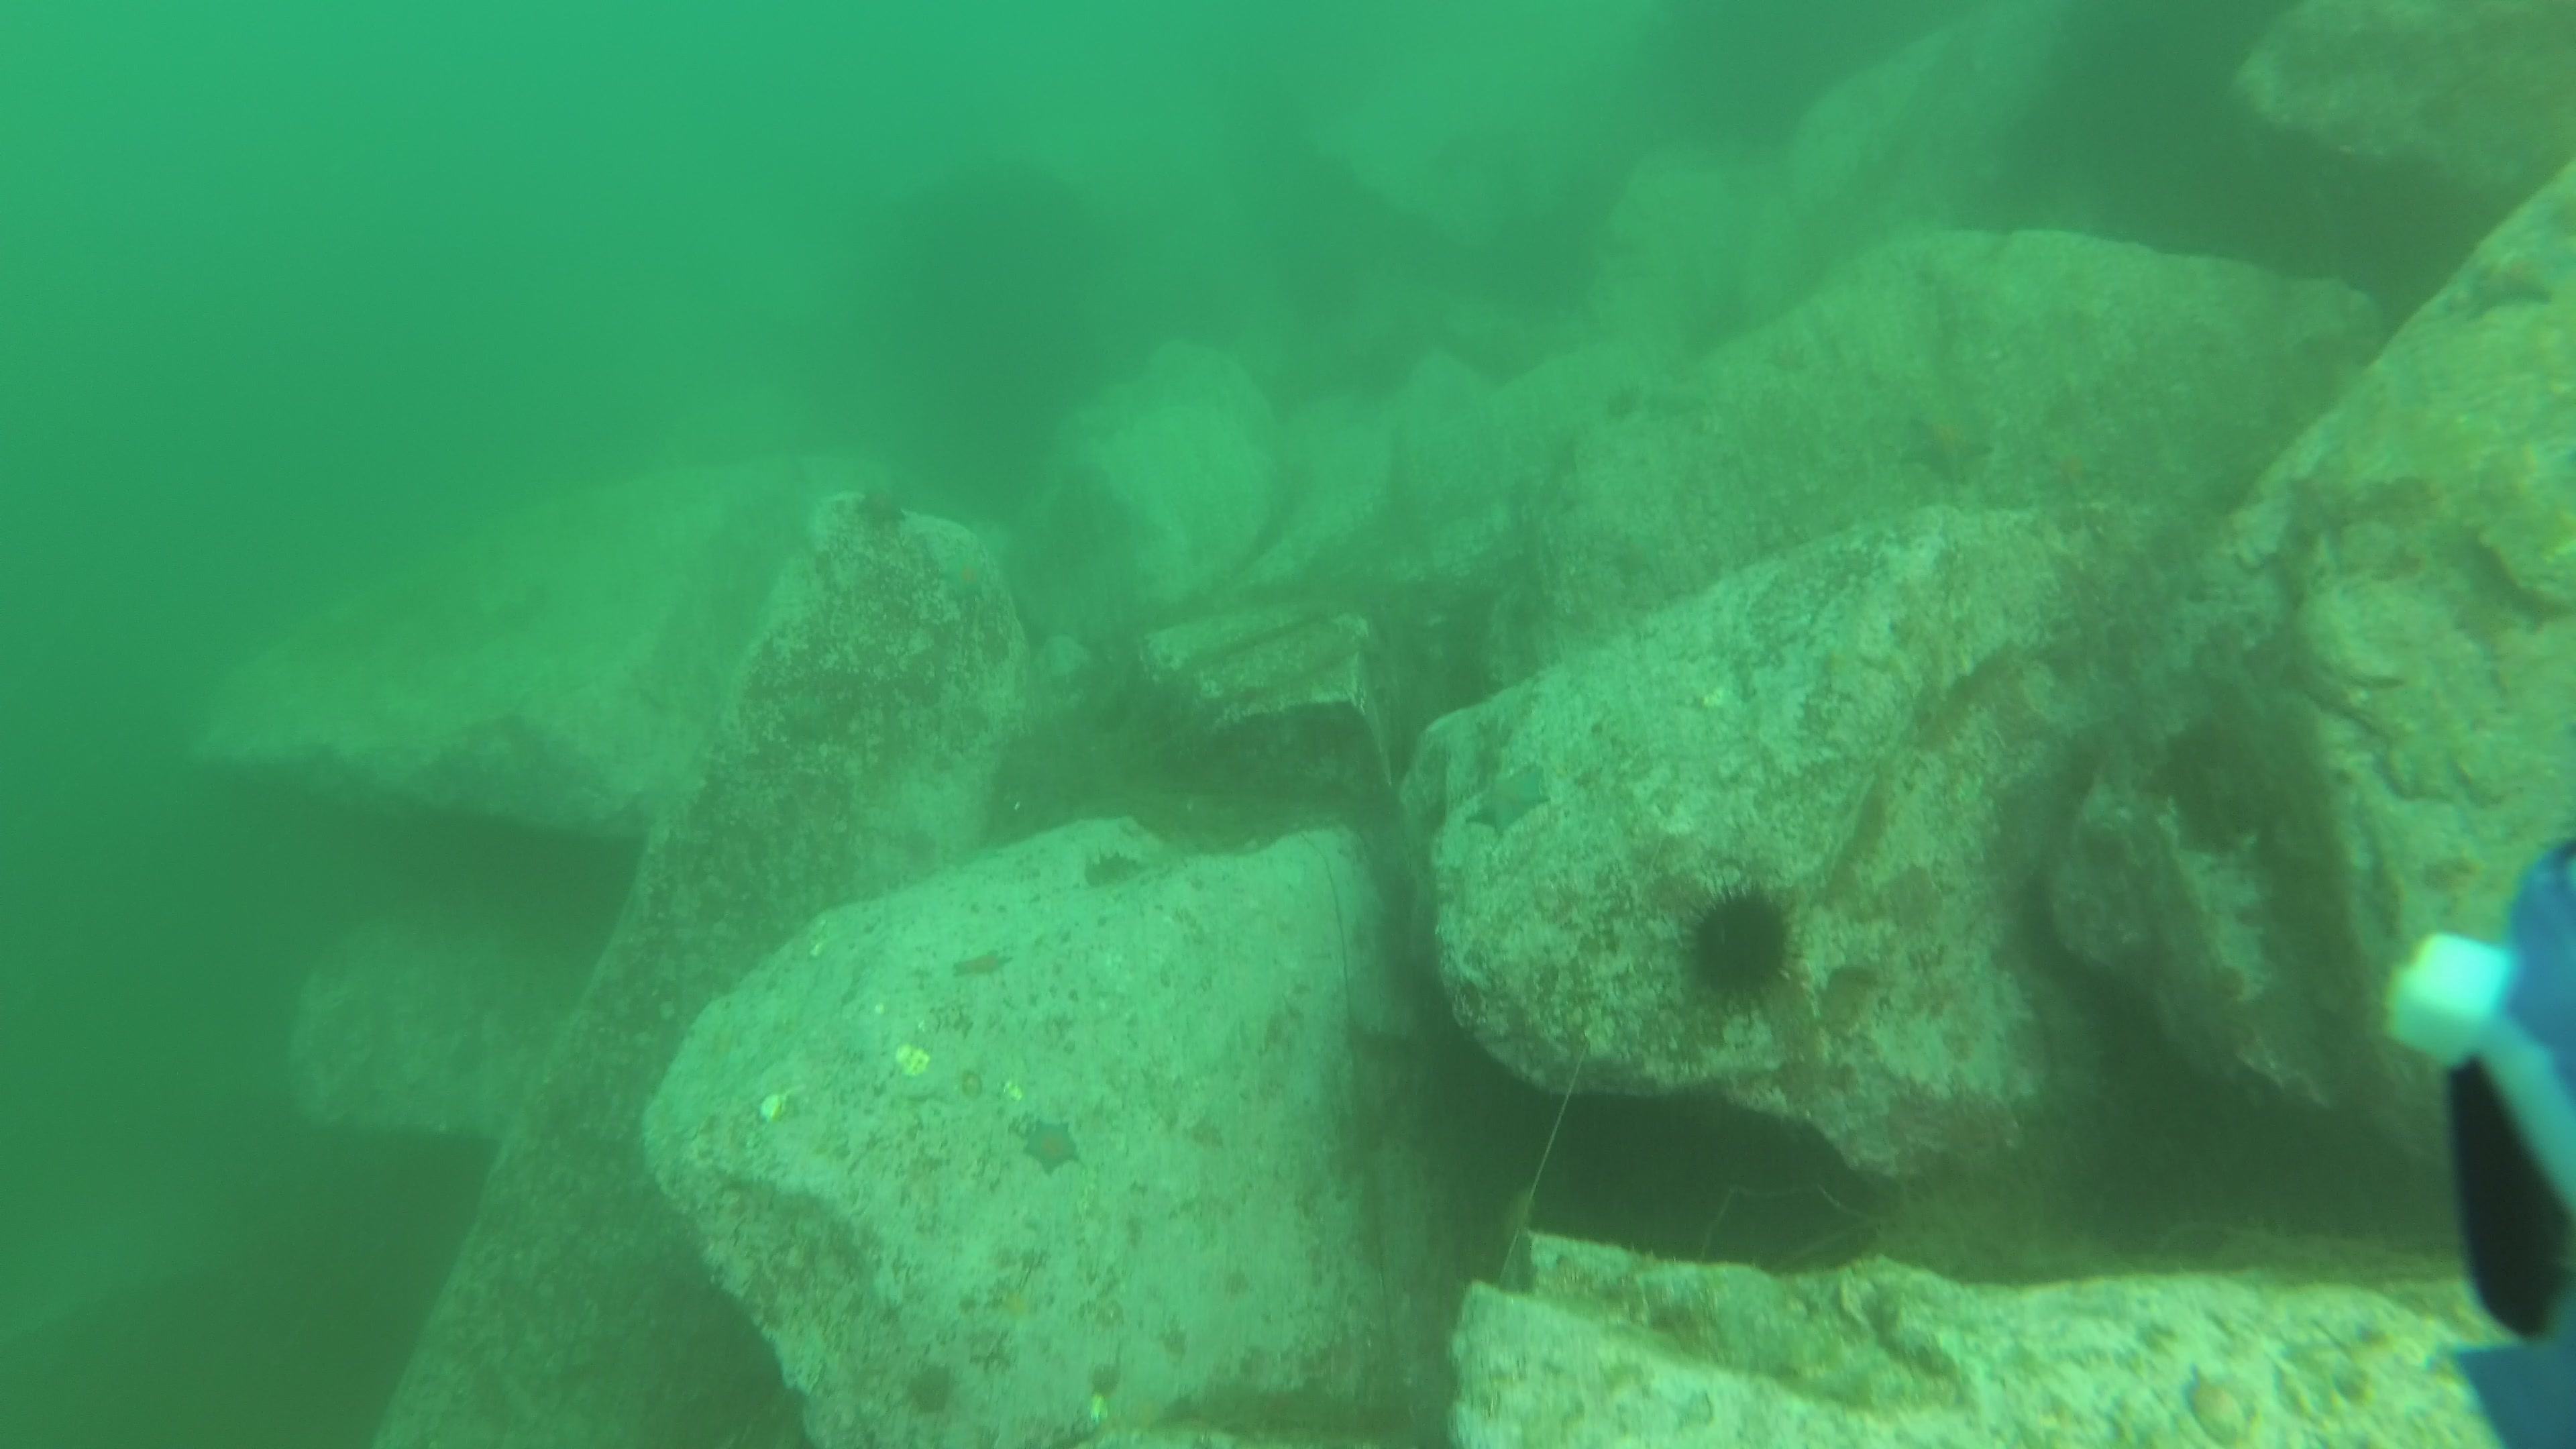echinus: (1670, 872, 1808, 1016), (899, 1352, 966, 1421)
holothurian: (1079, 844, 1152, 893)
starfish: (2463, 237, 2574, 326), (1902, 403, 1999, 494), (1460, 763, 1557, 839), (2031, 439, 2112, 504), (1016, 1113, 1085, 1178), (931, 543, 994, 609), (849, 476, 913, 533), (947, 947, 1016, 982)
